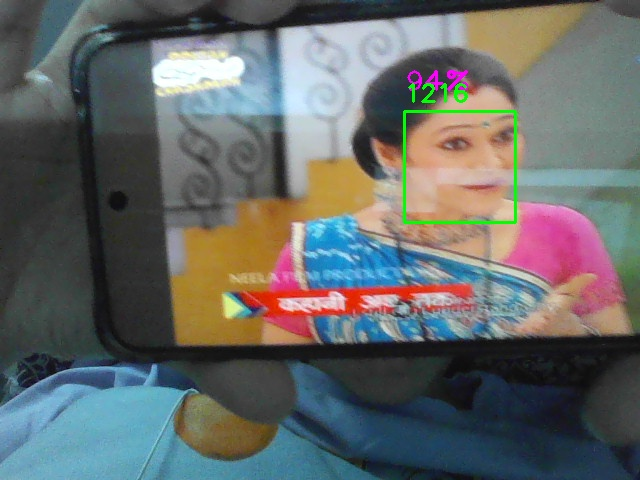fake: (404, 111, 516, 223)
